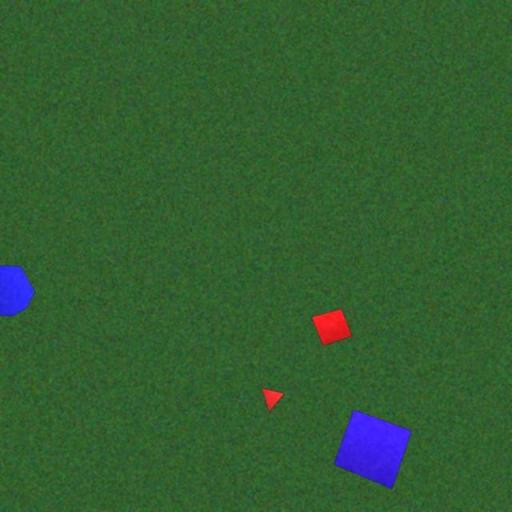BLUE_SQUARE: (333, 408, 412, 490)
RED_SQUARE: (310, 308, 353, 347)
